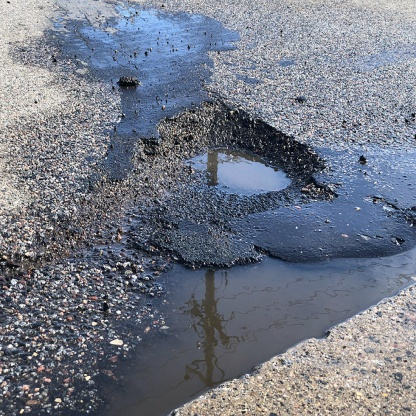pothole: (30, 2, 410, 364), (113, 93, 340, 237)
